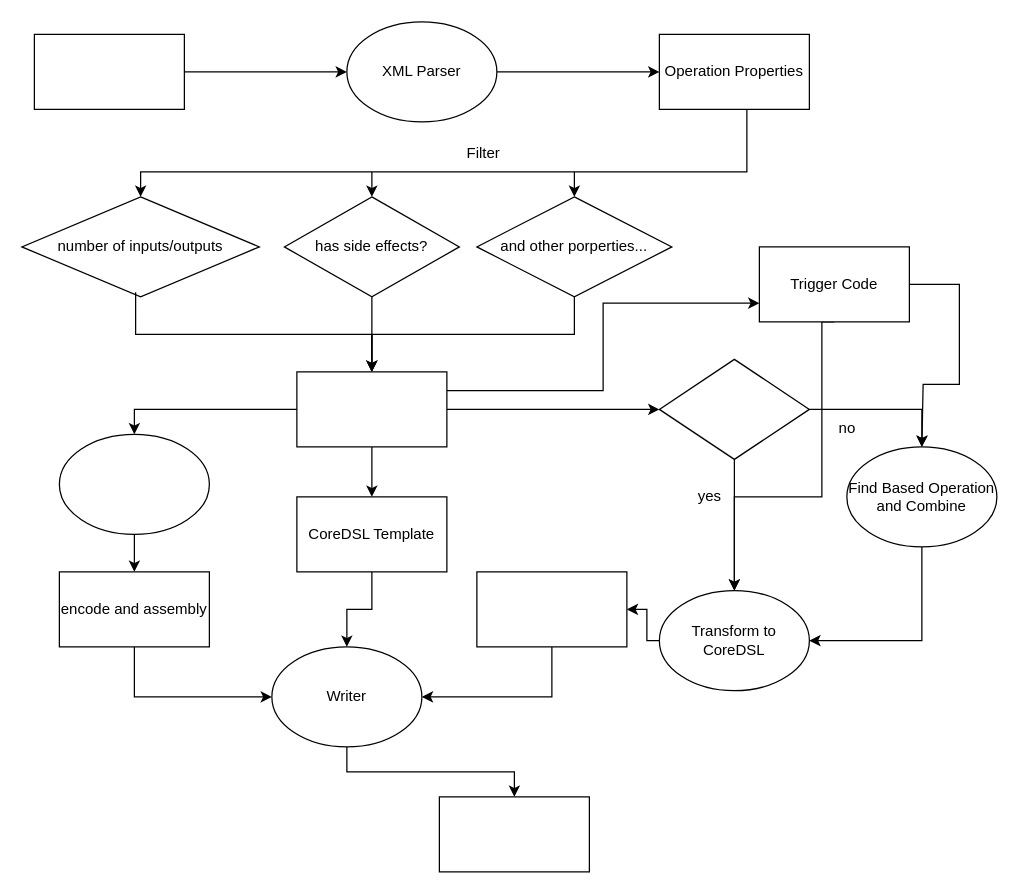
Some shapes in this 1019 by 894 pixel diagram are drawn without their labels. The box of each missing label's shape, as (x1, y1, x2, y2) in pixels:
auto encoding and assembly: (58, 433, 209, 534)
Behavior Code: (476, 571, 627, 647)
Filtered Operations: (296, 371, 447, 447)
Final CoreDSL Code: (438, 796, 589, 872)
OSAL Files: (33, 33, 184, 109)
single_exec?: (658, 358, 809, 459)
